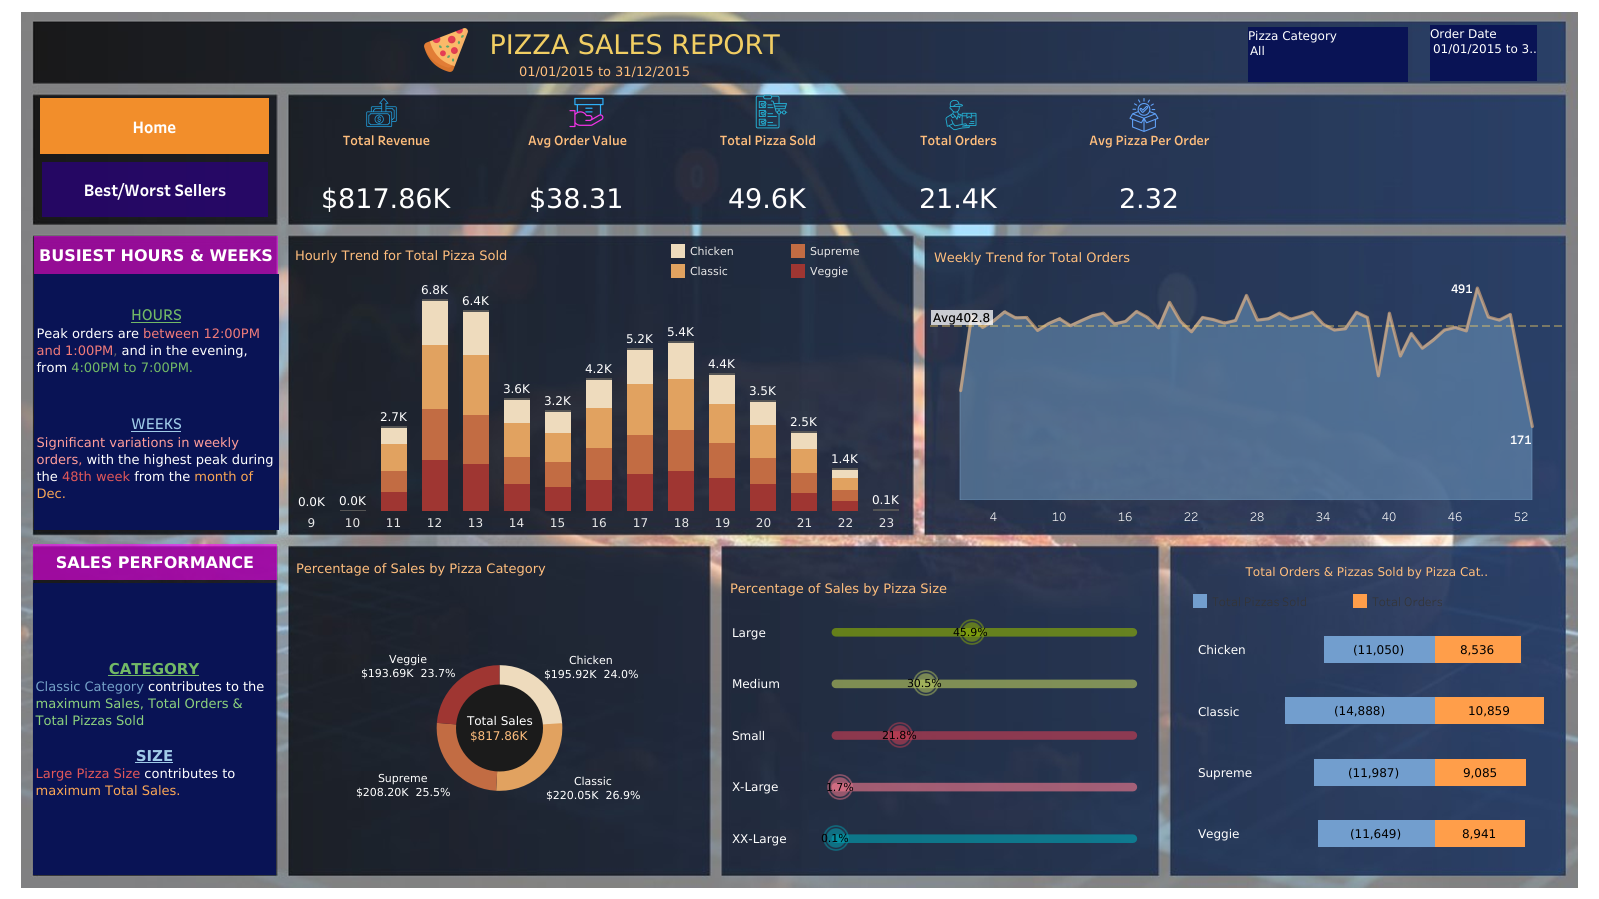

The dashboard page shown, as its layout file describes it:
{"tool":"tableau","page":{"name":"Home","canvas":[1600,900],"ordinal":1},"visuals":[{"type":"image","param":"Image/Pizza Tableau 1.jpg","box":[8,8,1584,884]},{"type":"text","box":[487,8,610,73]},{"type":"filter","title":"Hourly Trend for Total Pizza Sold","param":"[federated.0a4ugi71rlhu5w17nvi0l07qdpks].[none:order_date:qk]","box":[1430,25,107,56]},{"type":"image","param":"Image/pizza-slice.png","box":[409,27,74,46]},{"type":"filter","title":"Hourly Trend for Total Pizza Sold","param":"[federated.0a4ugi71rlhu5w17nvi0l07qdpks].[none:pizza_category:nk]","box":[1248,27,160,55]},{"type":"worksheet","title":"Date Range","mark":"Automatic","box":[364,47,383,71]},{"type":"image","param":"Image/shipping-box.png","box":[555,93,64,39]},{"type":"image","param":"Image/order-delivery.png","box":[742,94,59,35]},{"type":"image","param":"Image/profit-growth.png","box":[352,95,59,35]},{"type":"dashboard-object","box":[40,98,229,56]},{"type":"image","param":"Image/order (1).png","box":[1116,98,57,34]},{"type":"worksheet","title":"KPI Banner","mark":"Automatic","box":[291,99,954,120]},{"type":"image","param":"Image/delivery-man.png","box":[939,99,45,32]},{"type":"dashboard-object","box":[42,162,226,55]},{"type":"text","box":[34,236,244,39]},{"type":"worksheet","title":"Hourly Trend for Total Pizza Sold","mark":"Bar","rows":["Calculation_1532912740881035268","Calculation_1532912740881035268"],"cols":["order_time"],"box":[291,241,616,290]},{"type":"legend","title":"Hourly Trend for Total Pizza Sold","param":"[federated.0a4ugi71rlhu5w17nvi0l07qdpks].[none:pizza_category:nk]","box":[668,241,245,58]},{"type":"worksheet","title":"Weekly Trend for Total Orders","mark":"Area","rows":["Calculation_1532912740879310850","Calculation_1532912740879310850"],"cols":["order_date"],"box":[930,243,632,279]},{"type":"text","box":[34,274,245,256]},{"type":"text","box":[33,544,244,36]},{"type":"worksheet","title":"Percentage of Sales by Pizza Category","mark":"Pie","rows":["Calculation_1583296762403344385","Calculation_1583296762403524611"],"box":[292,554,415,316]},{"type":"text","box":[1243,556,248,30]},{"type":"worksheet","title":"Percentage of Sales by Pizza Size","mark":"Line","rows":["pizza_size"],"box":[726,574,426,290]},{"type":"text","box":[33,583,243,292]},{"type":"legend","title":"Total Orders&Pizzas Sold by Pizza Category ","param":"[federated.0a4ugi71rlhu5w17nvi0l07qdpks].[:Measure Names]","box":[1190,591,347,33]},{"type":"worksheet","title":"Total Orders&Pizzas Sold by Pizza Category ","mark":"Automatic","rows":["pizza_category"],"box":[1192,619,365,245]}]}

Visuals, with their boxes in screenshot pixels (x1, y1, x2, y2), scaled from the page's 1600x900 canvas onto the 1599x899 screenshot:
image: bbox=[8, 8, 1591, 891]
text: bbox=[487, 8, 1096, 81]
"Hourly Trend for Total Pizza Sold" filter: bbox=[1429, 25, 1536, 81]
image: bbox=[409, 27, 483, 73]
"Hourly Trend for Total Pizza Sold" filter: bbox=[1247, 27, 1407, 82]
"Date Range" worksheet: bbox=[364, 47, 747, 118]
image: bbox=[555, 93, 619, 132]
image: bbox=[742, 94, 800, 129]
image: bbox=[352, 95, 411, 130]
dashboard-object: bbox=[40, 98, 269, 154]
image: bbox=[1115, 98, 1172, 132]
"KPI Banner" worksheet: bbox=[291, 99, 1244, 219]
image: bbox=[938, 99, 983, 131]
dashboard-object: bbox=[42, 162, 268, 217]
text: bbox=[34, 236, 278, 275]
"Hourly Trend for Total Pizza Sold" worksheet (Bar marks): bbox=[291, 241, 906, 530]
"Hourly Trend for Total Pizza Sold" legend: bbox=[668, 241, 912, 299]
"Weekly Trend for Total Orders" worksheet (Area marks): bbox=[929, 243, 1561, 521]
text: bbox=[34, 274, 279, 529]
text: bbox=[33, 543, 277, 579]
"Percentage of Sales by Pizza Category" worksheet (Pie marks): bbox=[292, 553, 707, 869]
text: bbox=[1242, 555, 1490, 585]
"Percentage of Sales by Pizza Size" worksheet (Line marks): bbox=[726, 573, 1151, 863]
text: bbox=[33, 582, 276, 874]
"Total Orders&Pizzas Sold by Pizza Category " legend: bbox=[1189, 590, 1536, 623]
"Total Orders&Pizzas Sold by Pizza Category " worksheet: bbox=[1191, 618, 1556, 863]
